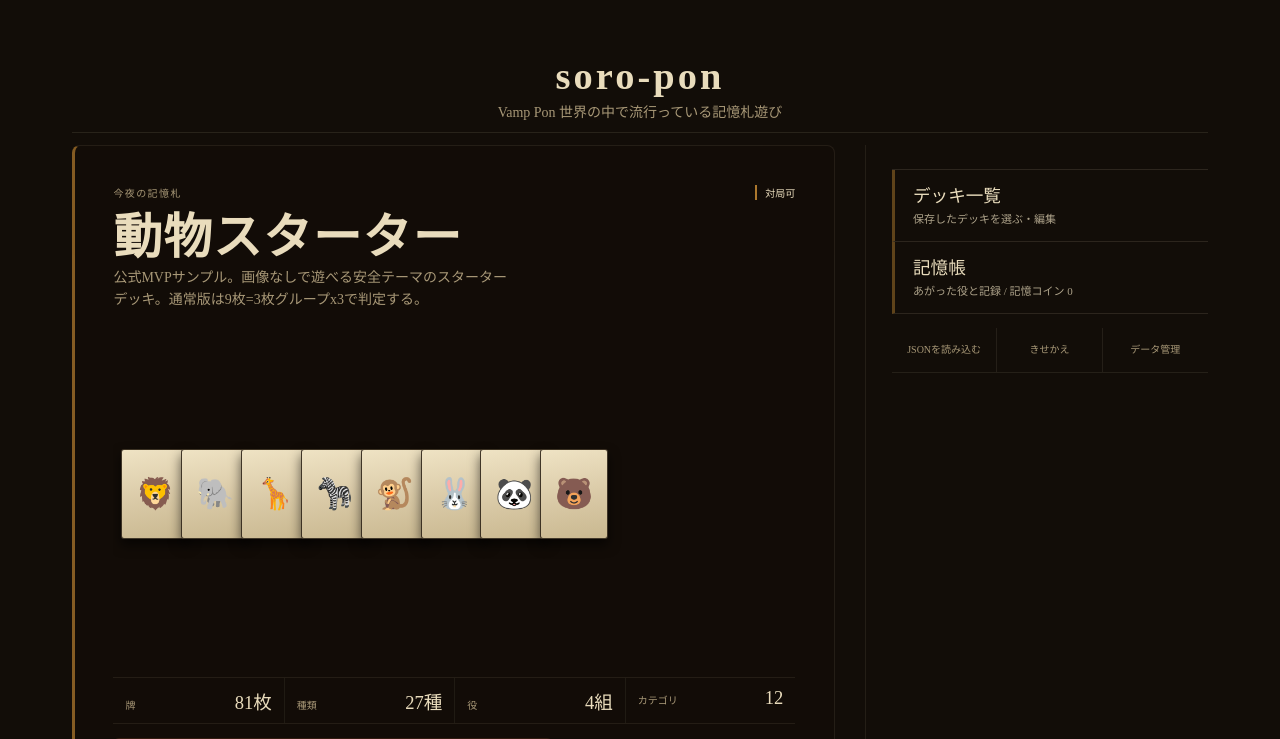
it: TopScreen recovery export › 退避コピーをJSONファイルとして書き出し、初期化前の保管を促す
Click the button "データ管理": (1155, 350) x1=1103 y1=328 x2=1208 y2=372
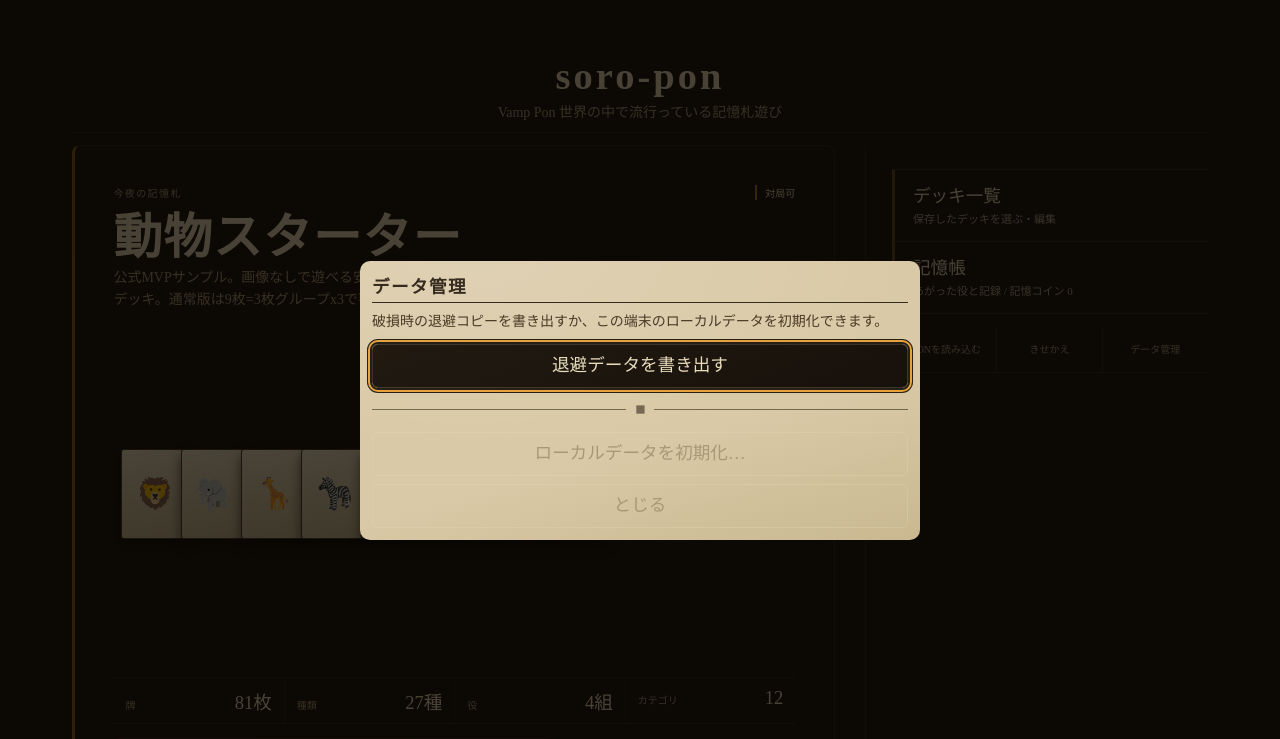
Now the dialog "データ管理" is shown, box x1=360 y1=260 x2=920 y2=540
Click the button "退避データを書き出す": (640, 366) x1=372 y1=344 x2=908 y2=388
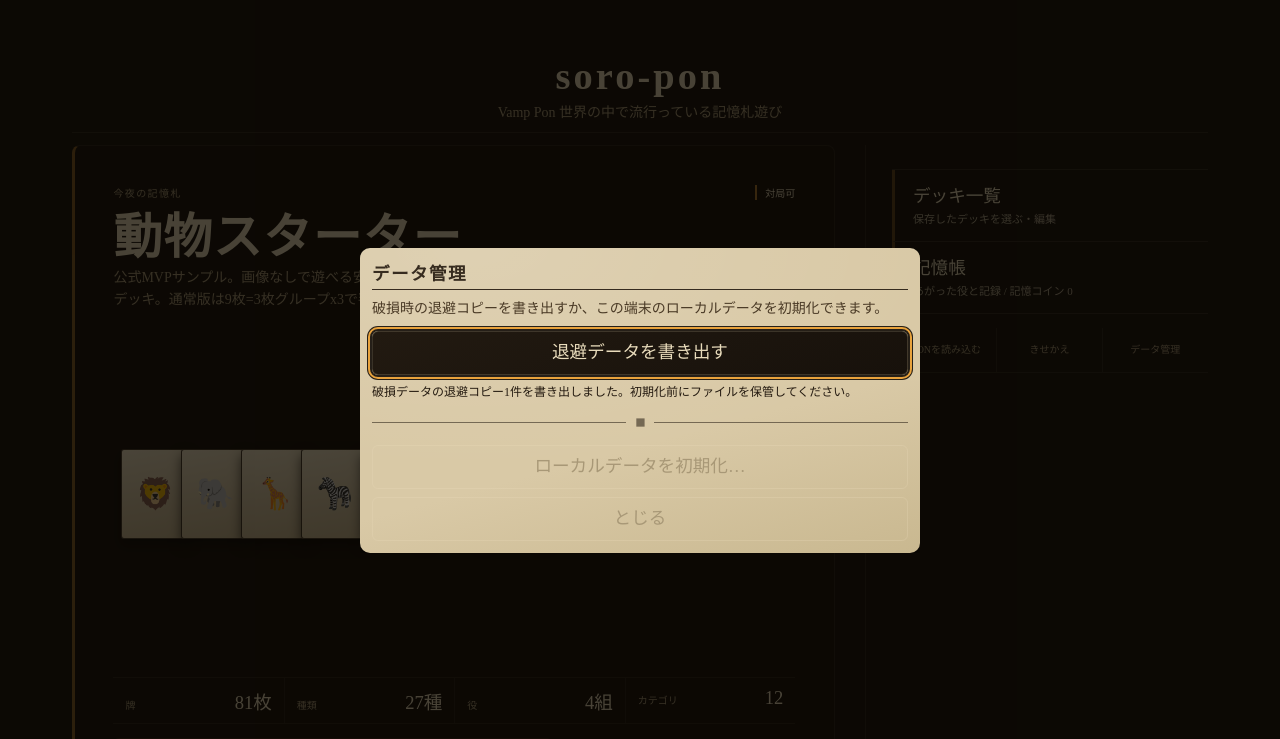
Now the message shows "退避コピー1件を書き出しました", box x1=372 y1=384 x2=857 y2=398
